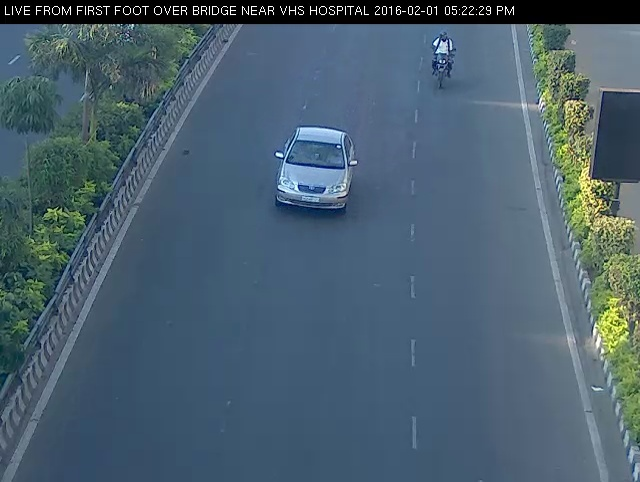Car: (268, 113, 361, 223)
Person: (422, 22, 465, 96)
